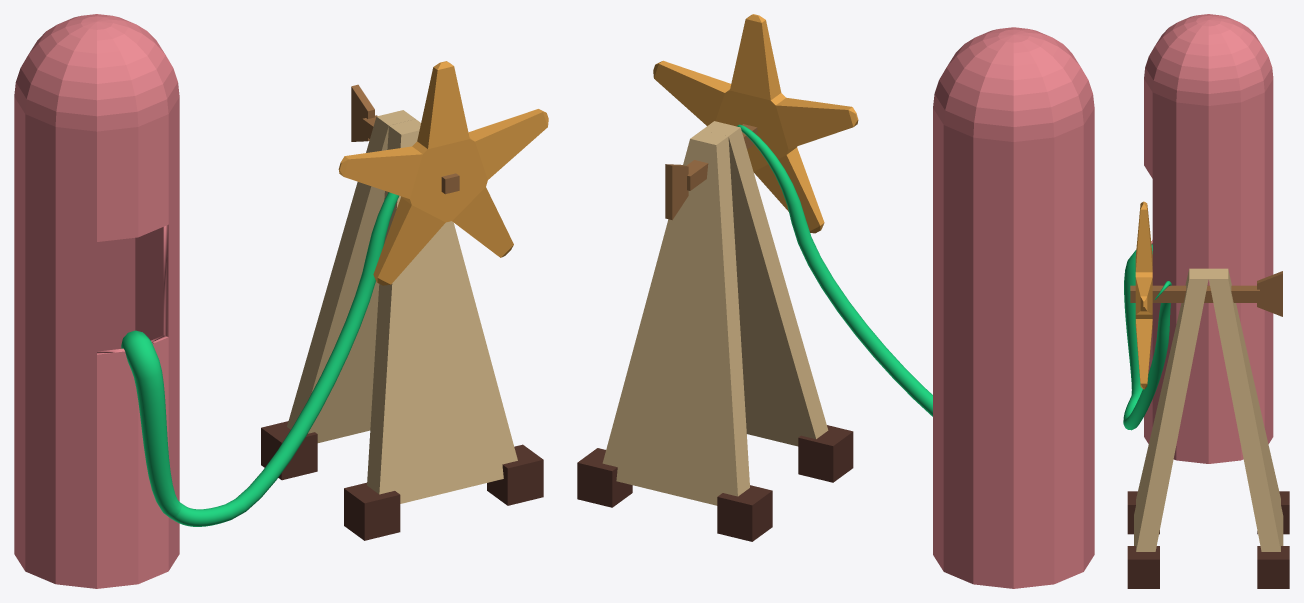
The model's file is BarnPuzzle.fbx.
The picture shows the model from 3 angles, left to right: view 1: azimuth 30°, elevation 25°; view 2: azimuth 150°, elevation 25°; view 3: azimuth 270°, elevation 25°; orthographic projection. The views are drawn at different scales.
Parts seen in each view (by area): view 1: Silo, Leg.001, Windmill.Fan, Leg.002, Growweed, Base.003, Base.001, Base.004, Windmill; view 2: Silo, Leg.002, Leg.001, Windmill.Fan, Growweed, Base.004, Base.003, Base.002, Windmill, Neck.001; view 3: Silo, Leg.002, Leg.001, Growweed, Windmill.Fan, Base.002, Base.001, Neck.001, Windmill, Base.003, Base.004.
Part boxes in pixels (left/top/right/bottom): Silo: left=14, top=14, right=179, bottom=588; Leg.001: left=367, top=119, right=517, bottom=503; Windmill.Fan: left=338, top=61, right=548, bottom=285; Leg.002: left=287, top=110, right=415, bottom=442; Growweed: left=121, top=192, right=399, bottom=526; Base.003: left=344, top=482, right=400, bottom=540; Base.001: left=487, top=444, right=543, bottom=505; Base.004: left=261, top=421, right=317, bottom=480; Windmill: left=351, top=84, right=374, bottom=141; Silo: left=933, top=27, right=1094, bottom=588; Leg.002: left=602, top=130, right=749, bottom=505; Leg.001: left=702, top=121, right=828, bottom=446; Windmill.Fan: left=653, top=14, right=858, bottom=233; Growweed: left=736, top=124, right=932, bottom=416; Base.004: left=717, top=485, right=772, bottom=541; Base.003: left=798, top=425, right=853, bottom=482; Base.002: left=577, top=448, right=632, bottom=507; Windmill: left=665, top=164, right=688, bottom=220; Neck.001: left=686, top=124, right=757, bottom=190; Silo: left=1144, top=14, right=1273, bottom=463; Leg.002: left=1208, top=268, right=1283, bottom=551; Leg.001: left=1134, top=268, right=1208, bottom=551; Growweed: left=1123, top=244, right=1171, bottom=430; Windmill.Fan: left=1135, top=201, right=1152, bottom=389; Base.002: left=1257, top=546, right=1289, bottom=588; Base.001: left=1127, top=546, right=1159, bottom=588; Neck.001: left=1130, top=285, right=1259, bottom=302; Windmill: left=1257, top=271, right=1282, bottom=316; Base.003: left=1127, top=491, right=1159, bottom=534; Base.004: left=1257, top=491, right=1289, bottom=534.
Size of the model in its own units: 336 by 128 by 356.
